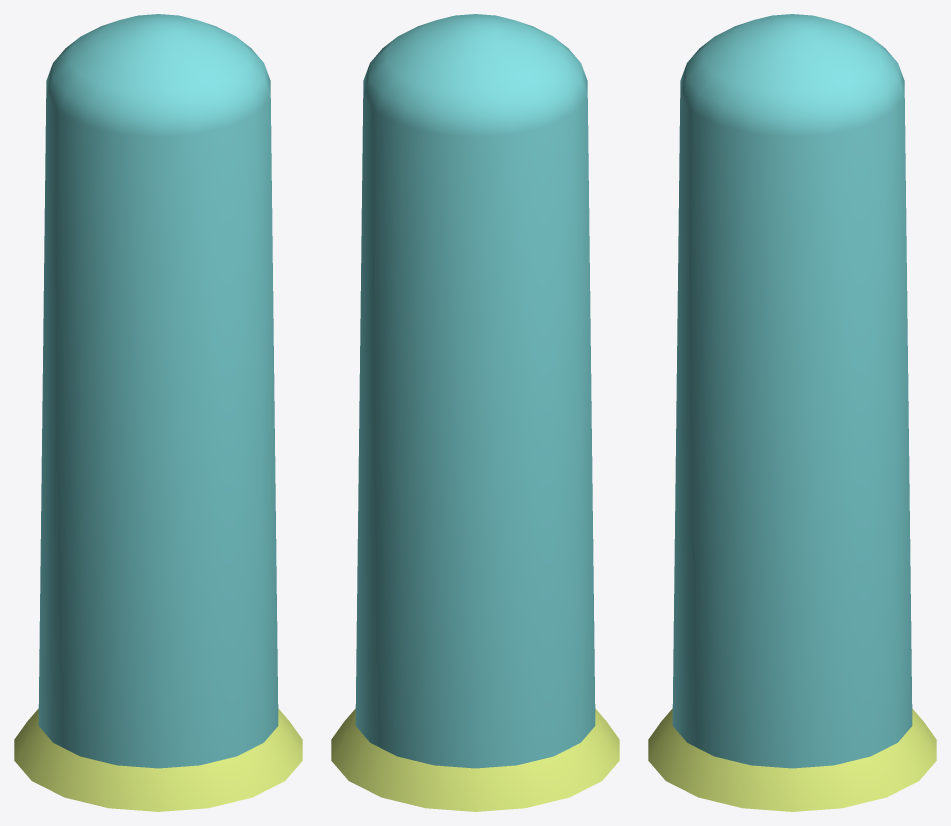
3 views of the same model, side by side, from view 1: azimuth 30°, elevation 25°; view 2: azimuth 150°, elevation 25°; view 3: azimuth 270°, elevation 25° (orthographic).
Parts seen in each view (by area): view 1: Cylinder; view 2: Cylinder; view 3: Cylinder.
Boxes of the visible parts, box(x1,y1,x2,y2) form: Cylinder: box(14, 14, 302, 811); Cylinder: box(331, 14, 619, 811); Cylinder: box(648, 14, 936, 811).
Size of the model in its own units: 120 by 329 by 118.
